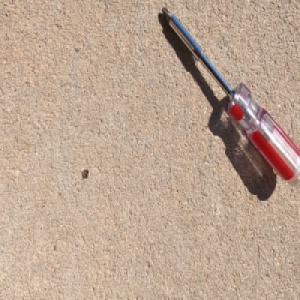Screwdriver: (161, 6, 300, 191)
